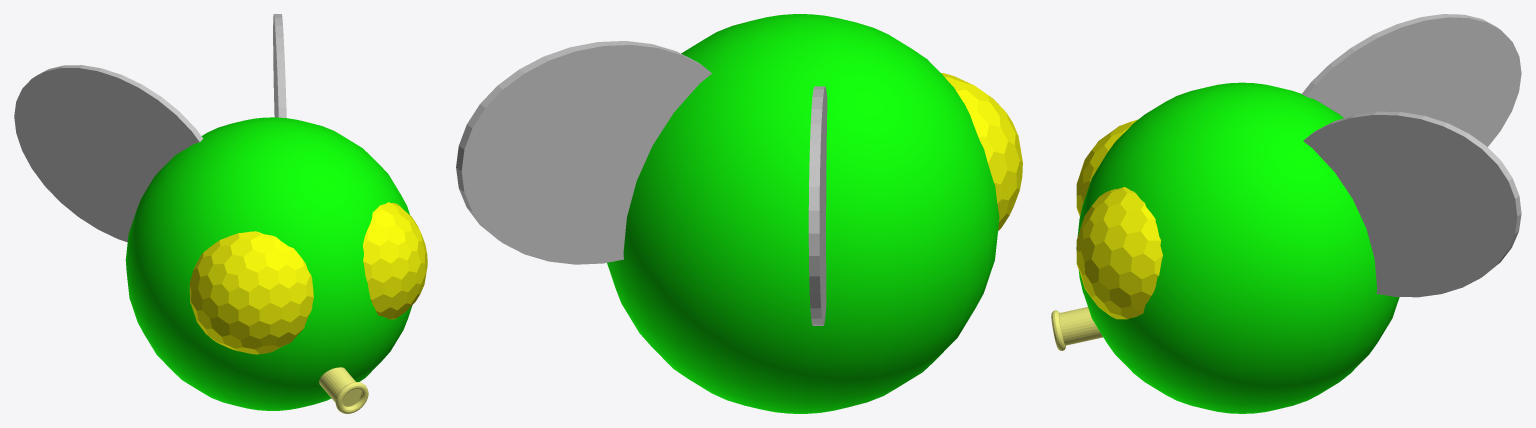
Rendered from fly.fbx.
The picture shows the model from 3 angles, left to right: view 1: azimuth 30°, elevation 25°; view 2: azimuth 150°, elevation 25°; view 3: azimuth 270°, elevation 25°; orthographic projection. The views are drawn at different scales.
Visible parts, largest first — view 1: Cylinder, Circle.001, Circle; view 2: Cylinder, Circle, Circle.001; view 3: Cylinder, Circle, Circle.001.
Boxes of the visible parts, bbox=[...] form: Cylinder: bbox=[125, 117, 427, 413]; Circle.001: bbox=[14, 65, 203, 242]; Circle: bbox=[273, 14, 286, 117]; Cylinder: bbox=[607, 14, 1022, 413]; Circle: bbox=[456, 41, 711, 264]; Circle.001: bbox=[808, 86, 827, 325]; Cylinder: bbox=[1051, 82, 1399, 413]; Circle: bbox=[1303, 111, 1521, 297]; Circle.001: bbox=[1302, 14, 1521, 146].
Size of the model in its own units: 210 by 219 by 284.
